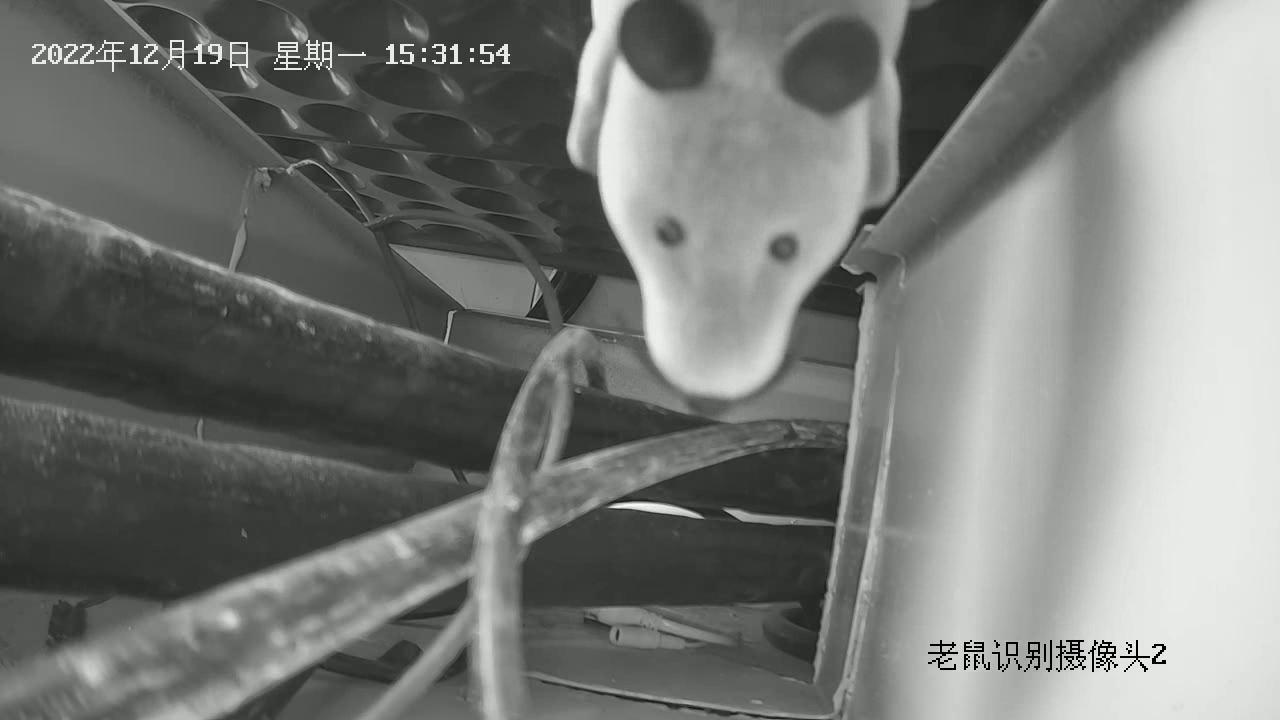rat: (567, 2, 937, 401)
